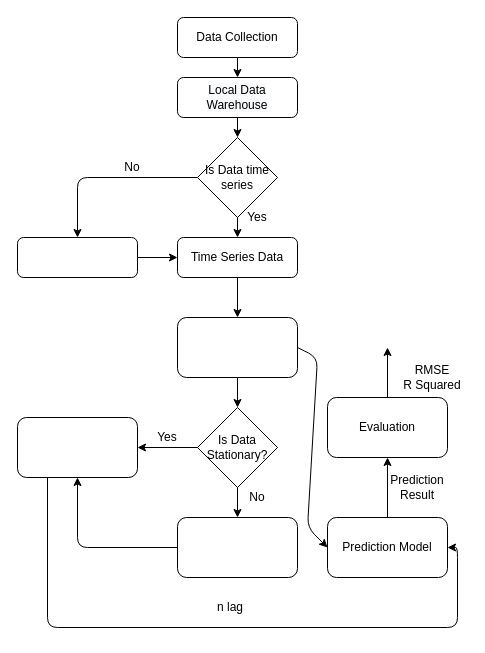
This 485x653 diagram has some shape labels left out. Here are the shapes that lost their labels. From the top down, the centre of each, then its label:
the point at 77,257: Preprocessing for Time Series
the point at 237,347: Data Preprocessing
the point at 77,447: Granger Causality Analysis
the point at 237,547: Transform Series
